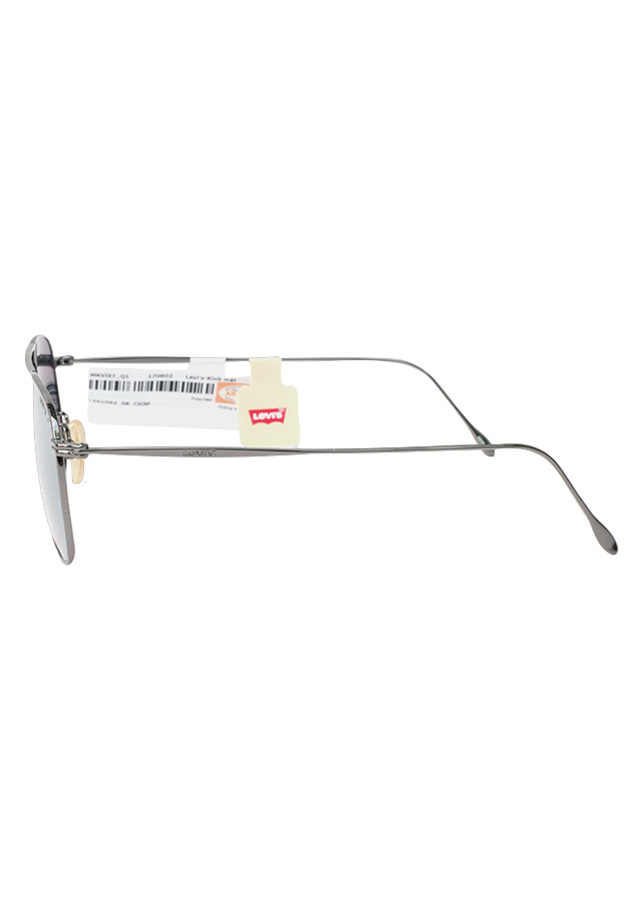Levi's: (241, 399, 295, 429)
